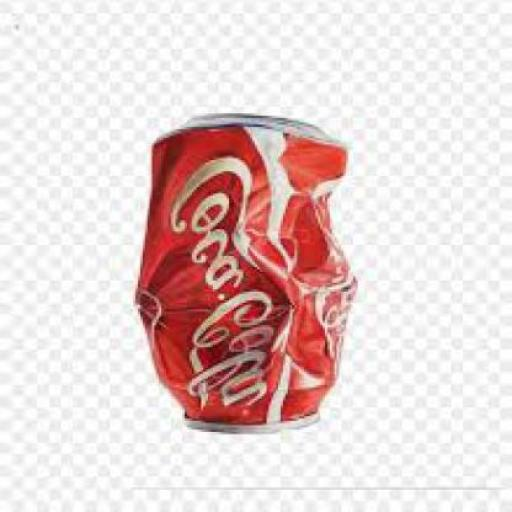metal: (131, 116, 358, 438)
